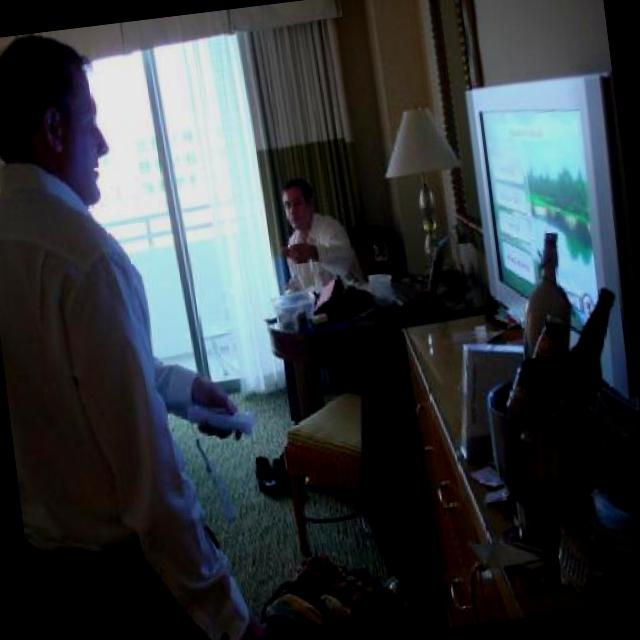Person: (0, 15, 267, 640), (270, 170, 364, 296)
